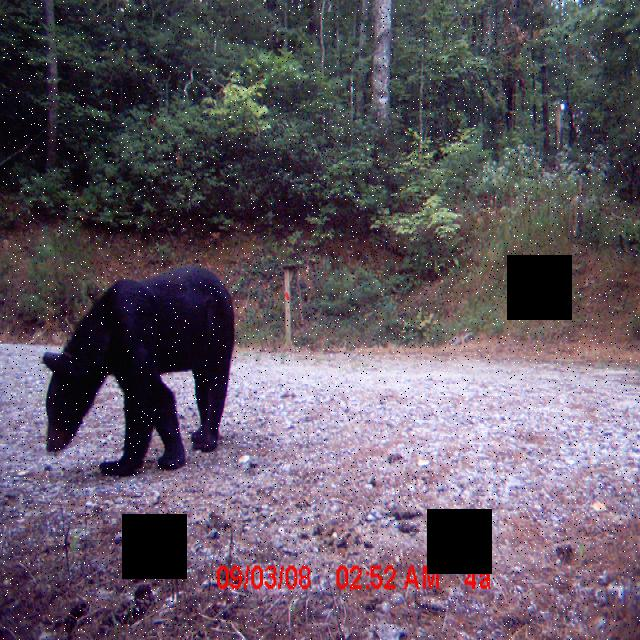Bear: (35, 273, 243, 478)
